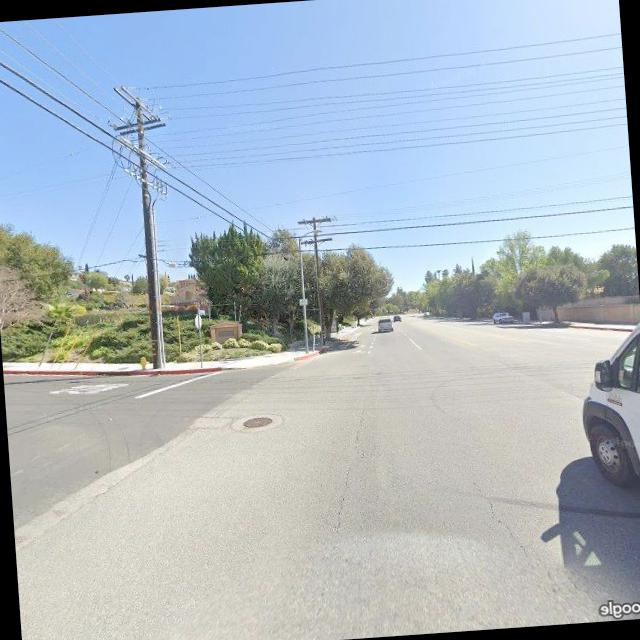pothole: (469, 473, 534, 561), (329, 463, 359, 531), (349, 400, 375, 461)
